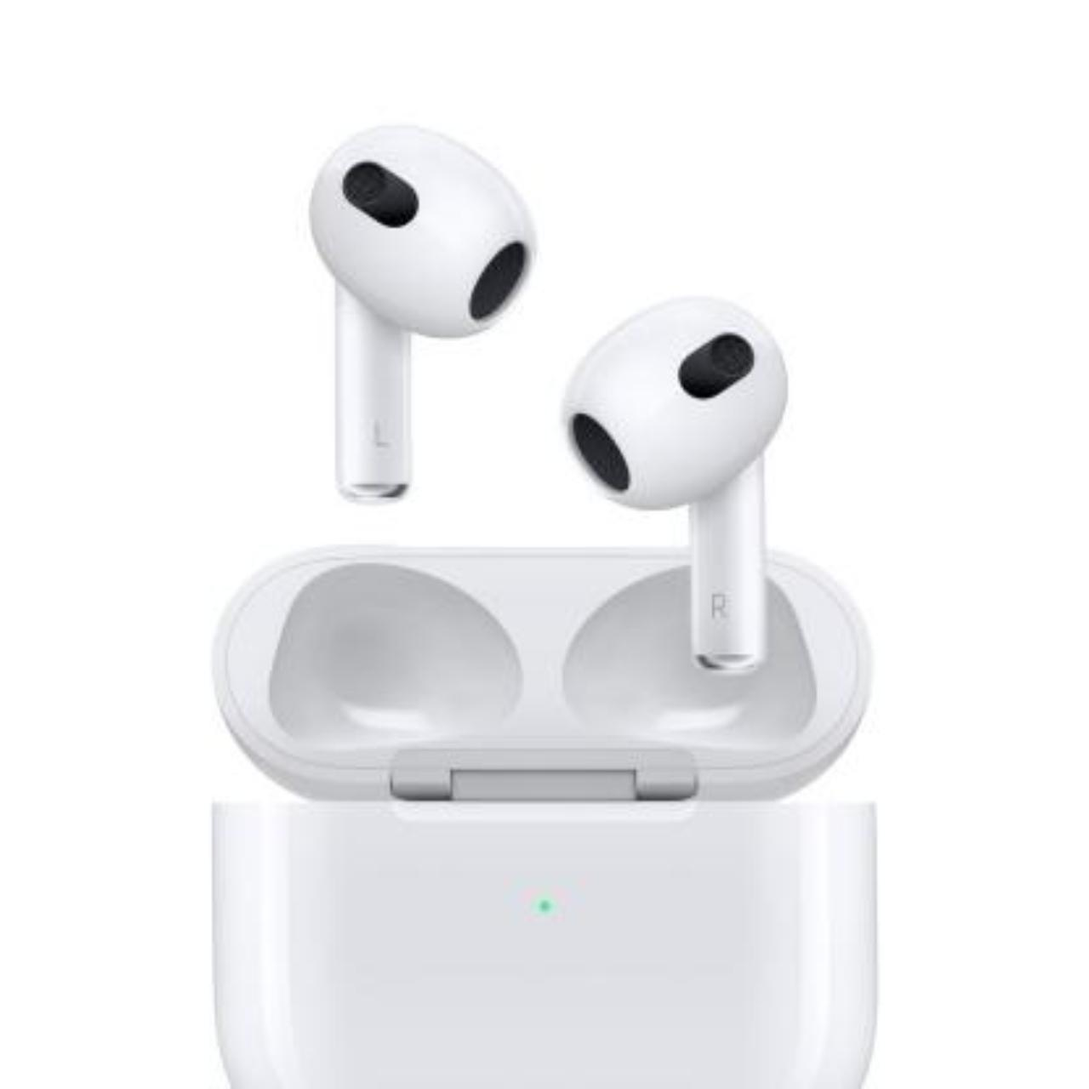Airpods_Units: (564, 292, 807, 687), (309, 114, 536, 496)
